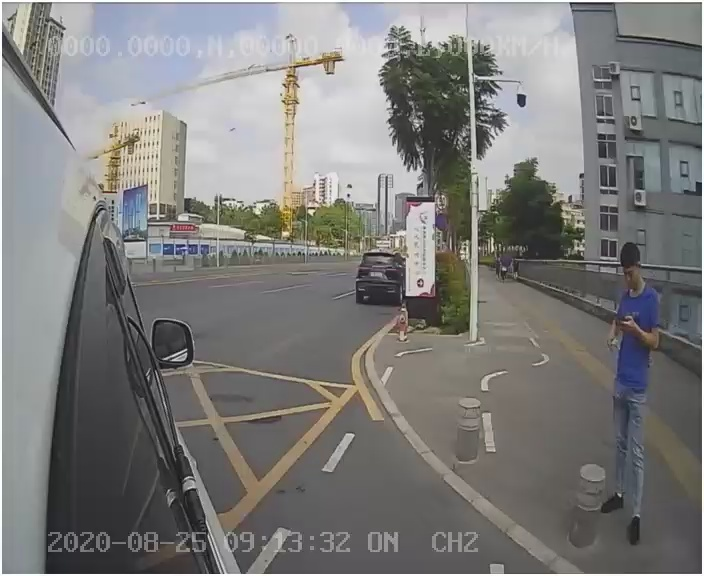person: (599, 244, 664, 545)
